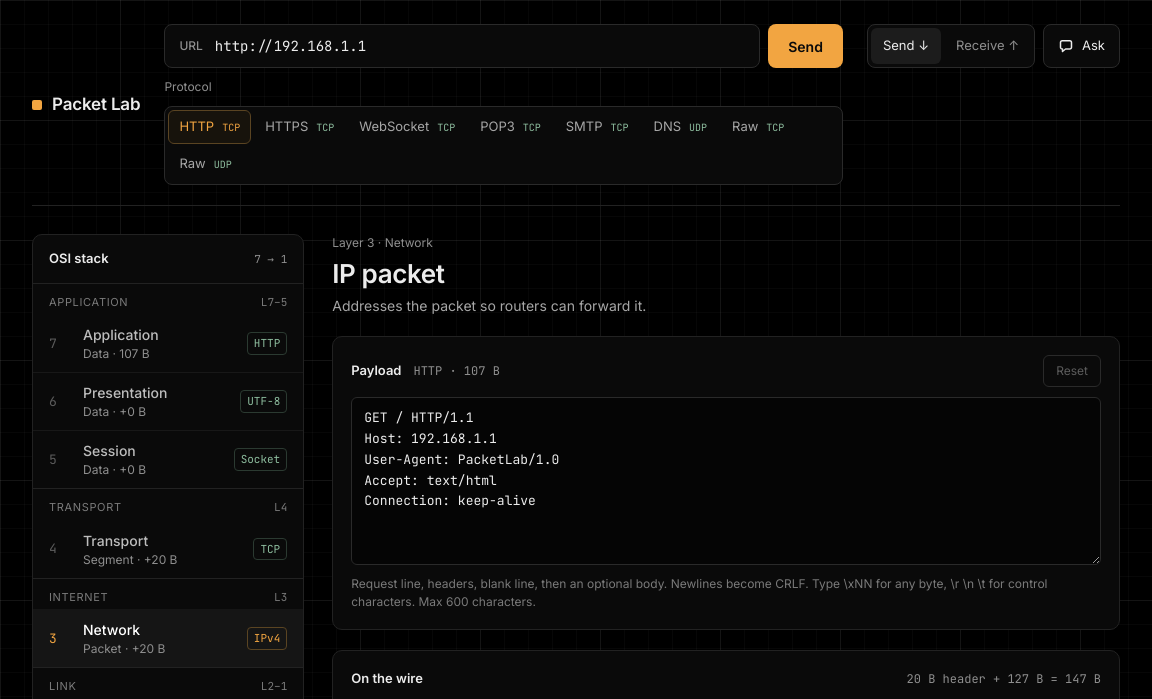
Test: App › shows the Encrypted transform row at L6 for HTTPS only
This screenshot has width=1152, height=699.
Click the button "6 Presentation Data · +0 B UTF-8" at (168, 401), box [33,372,303,430]
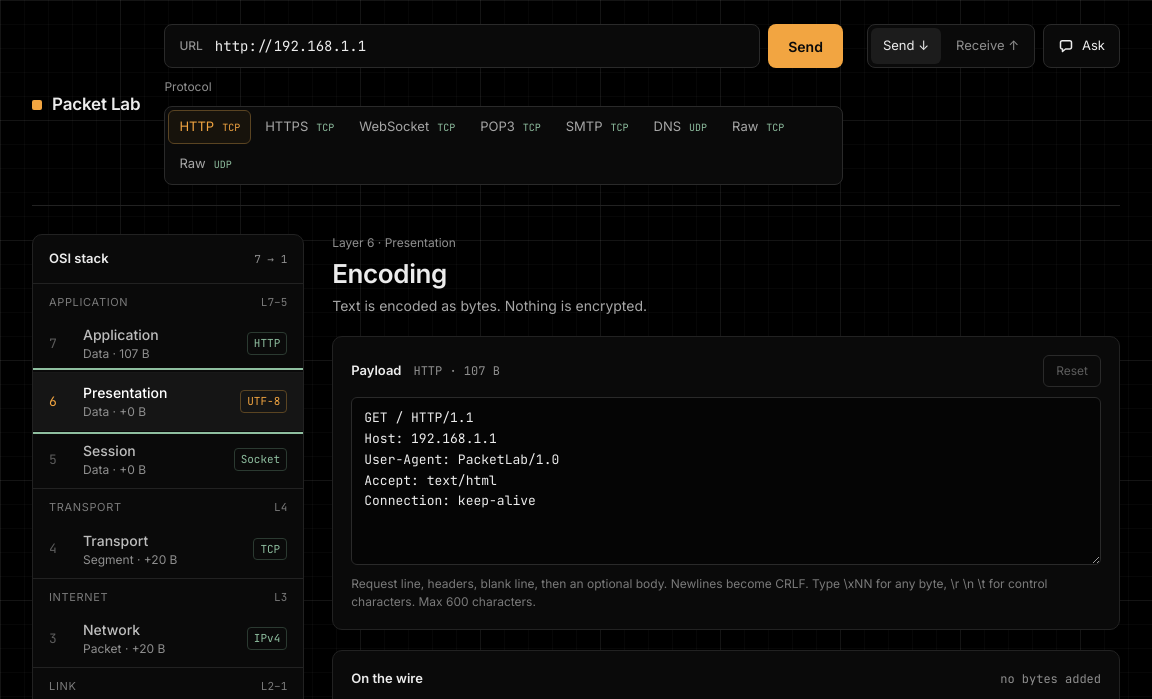
Click the button "HTTPS TCP" at (300, 127), box [254,110,345,144]
(page scrolled)
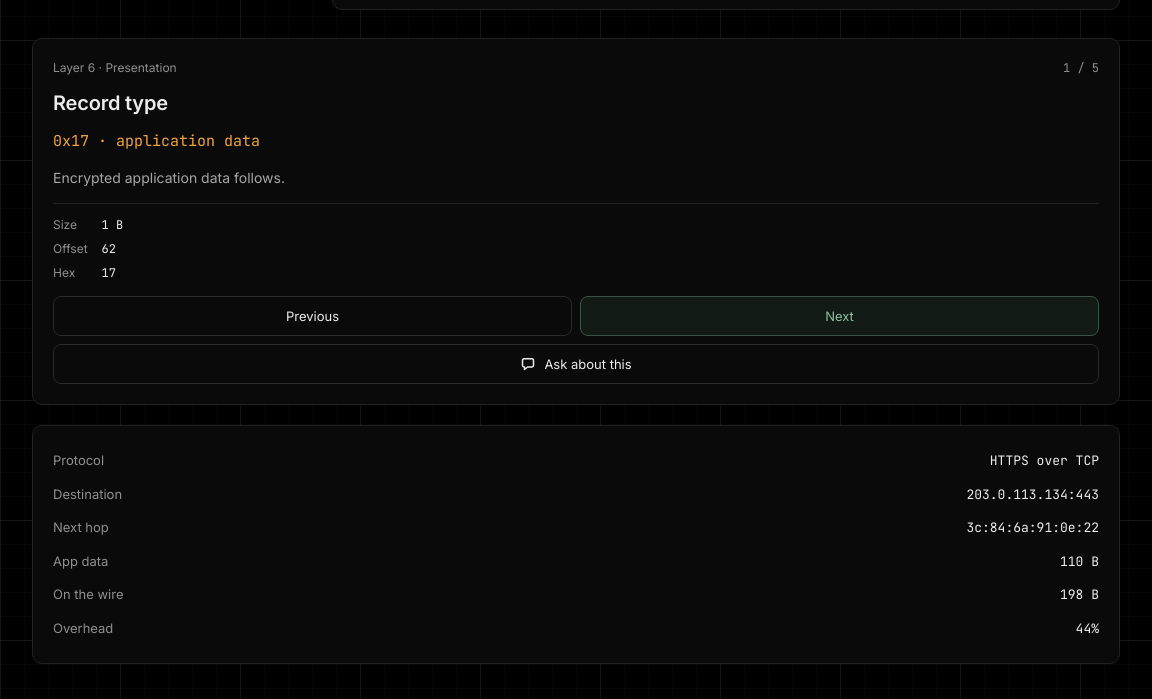
expect the text "HTTPS over TCP" is shown: met, box [990,451,1099,471]
